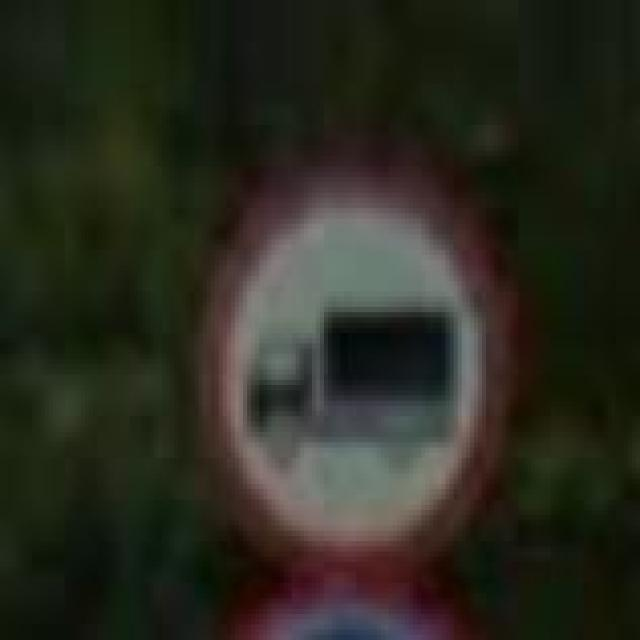traffic_sign: (198, 161, 511, 583)
